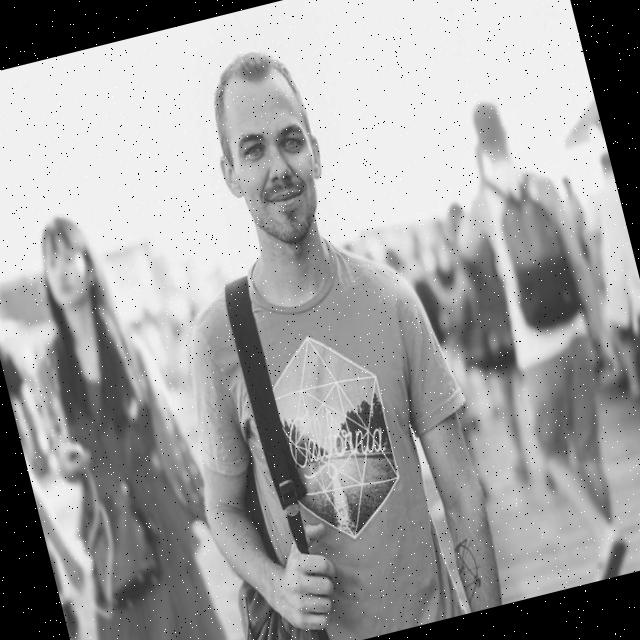Happiness: (213, 70, 336, 252)
